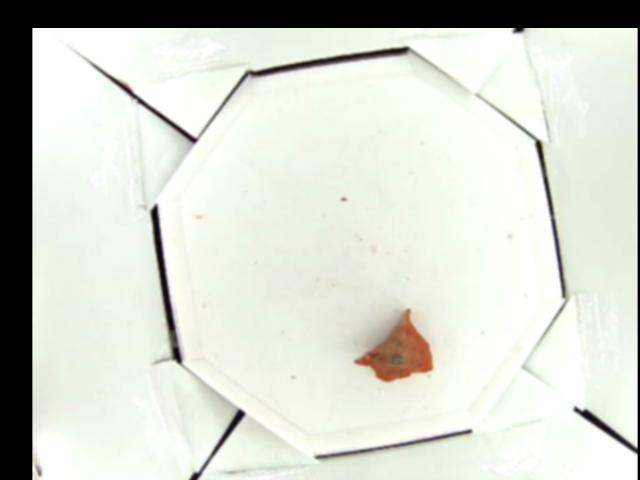Brisk: (355, 307, 434, 379)
